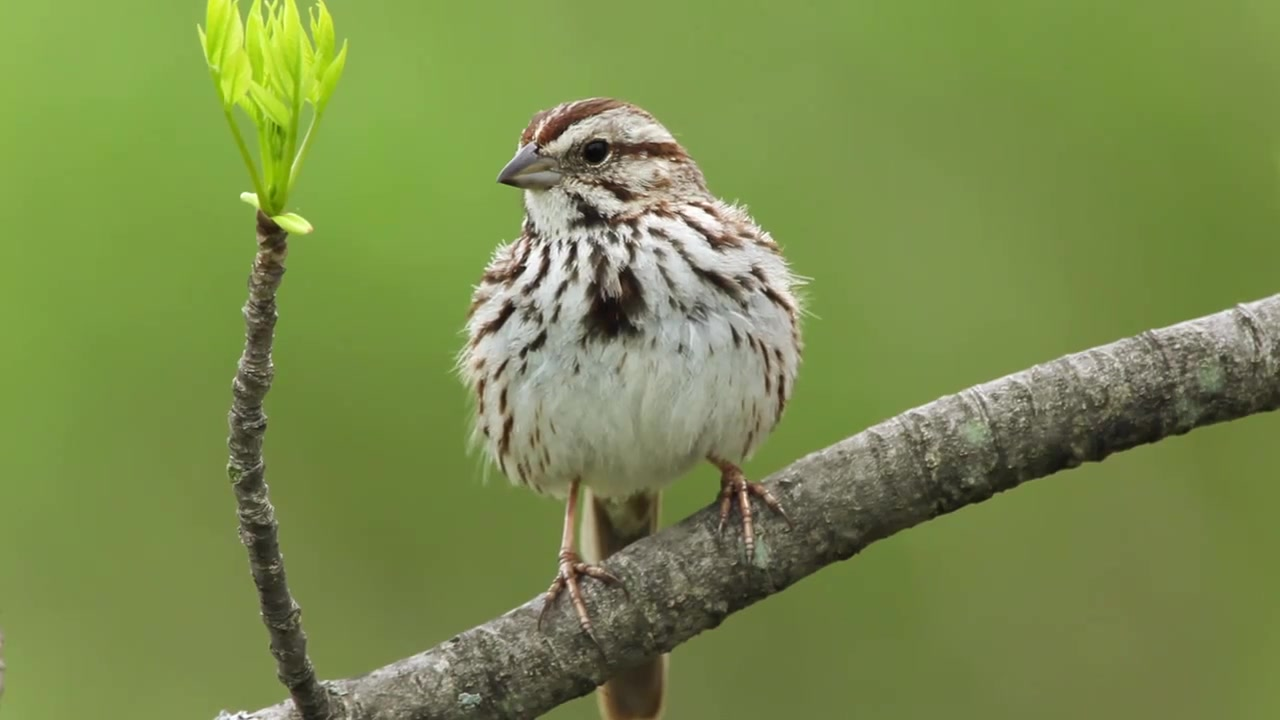bird: (447, 94, 821, 720)
